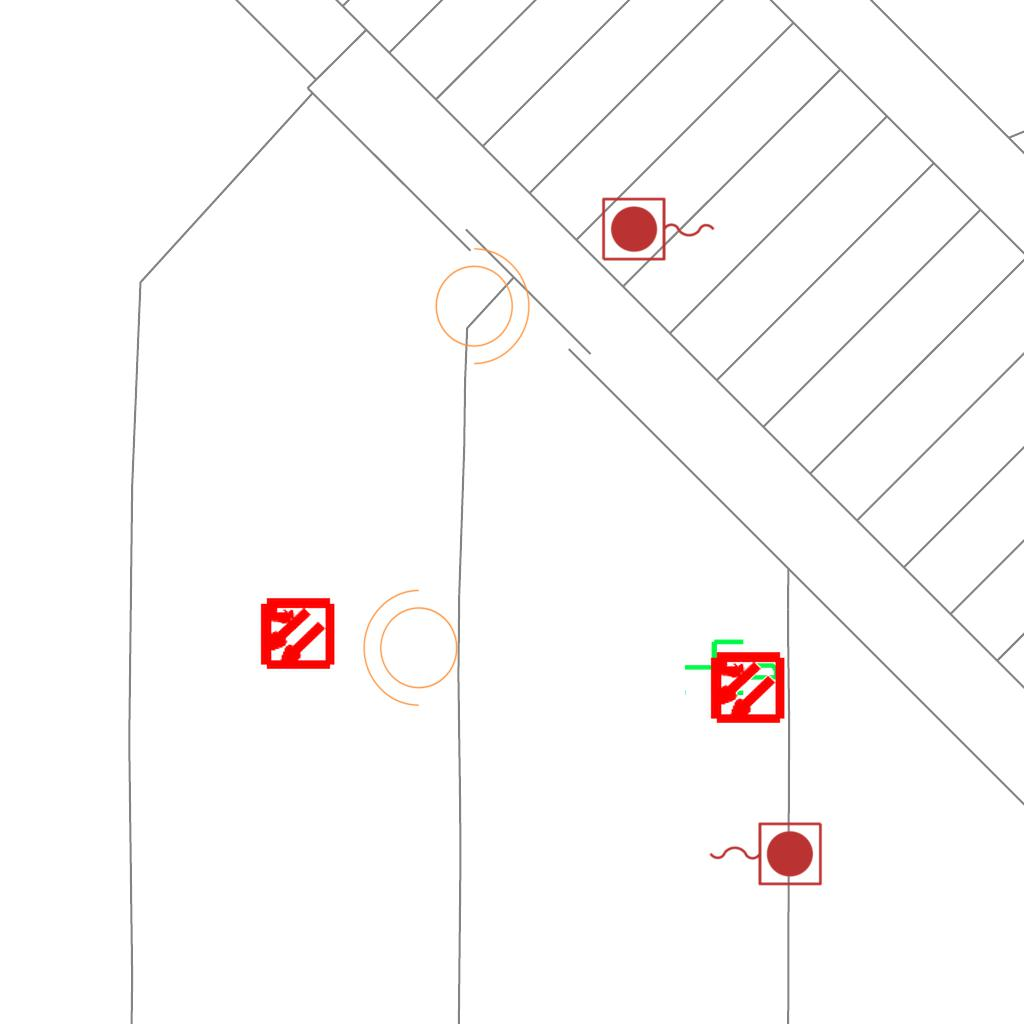Datenanschluss_einfach: (682, 631, 782, 700)
OT_Multisensormelder_(Kombination_RMO_WMD): (239, 577, 352, 690), (689, 631, 802, 744)
Scheinwerfer_fuer_Alarmbeleuchtung: (358, 585, 470, 717), (423, 237, 535, 369)
Zugtaster: (598, 194, 720, 266), (704, 817, 826, 889)
